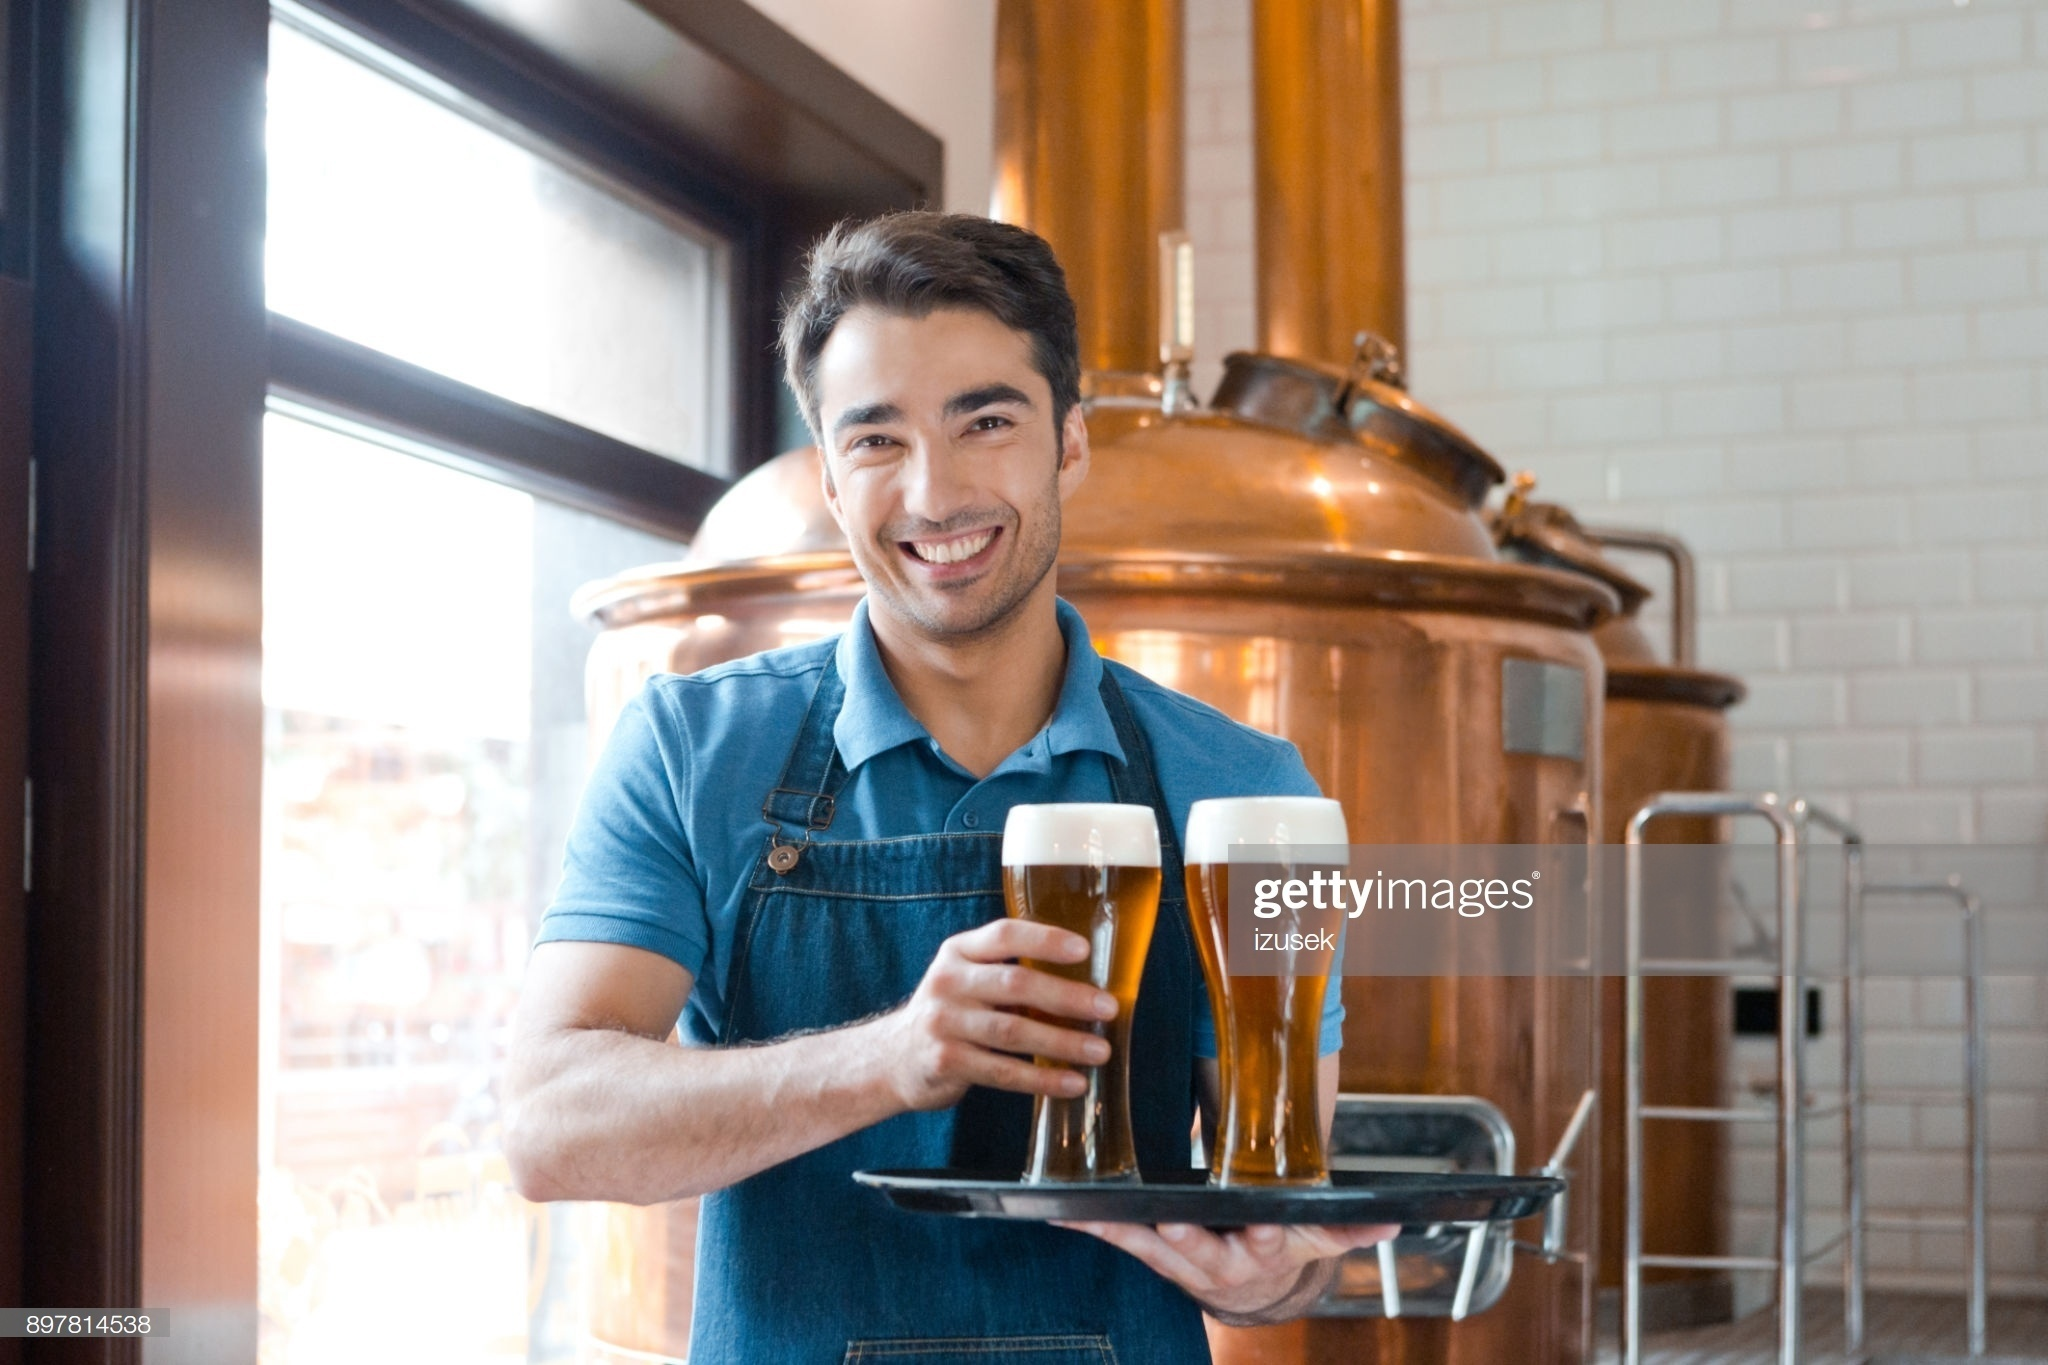whiskey: (996, 800, 1160, 1193), (1191, 795, 1354, 1188)
